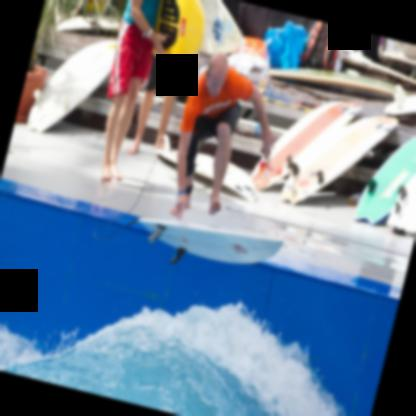backpack: (298, 21, 348, 70)
